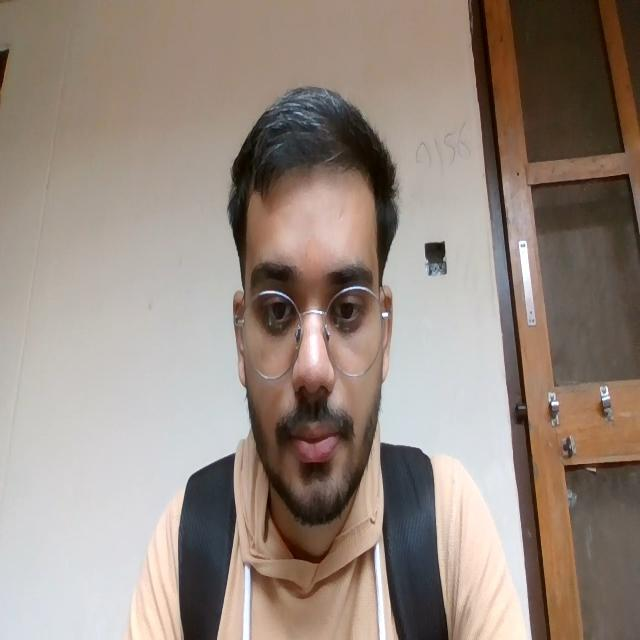awake: (245, 261, 373, 467)
